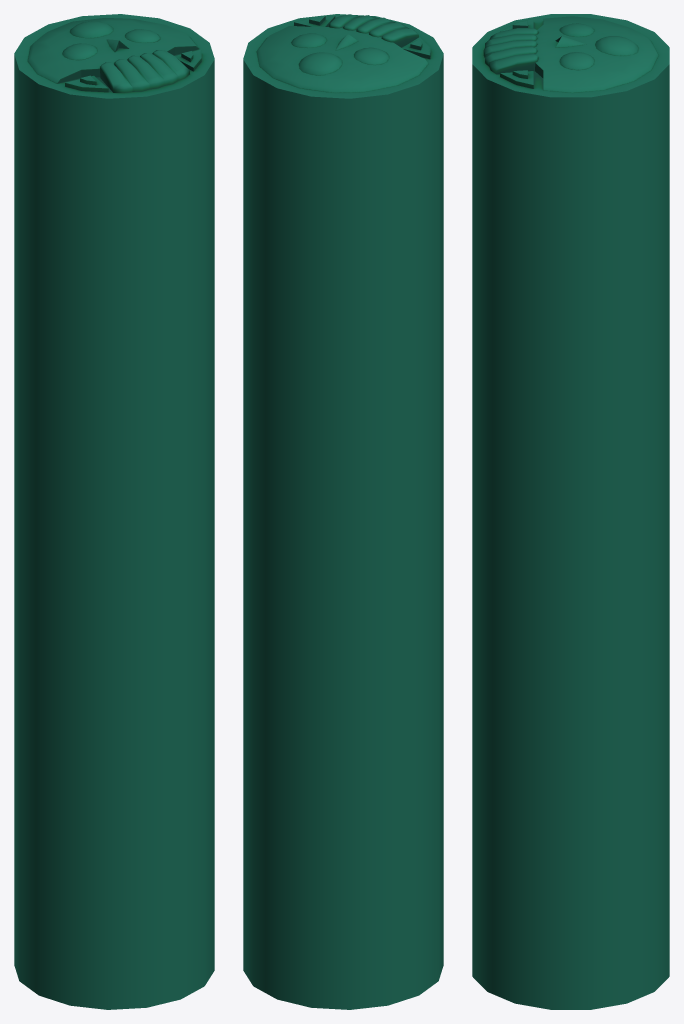
The model's file is elevator02.fbx.
3 renders of one model, left to right at view 1: azimuth 30°, elevation 25°; view 2: azimuth 150°, elevation 25°; view 3: azimuth 270°, elevation 25°, orthographic.
Visible parts, largest first — view 1: elevator02_geo; view 2: elevator02_geo; view 3: elevator02_geo.
Boxes of the visible parts, <box> form: elevator02_geo: <box>14,14,214,1009</box>; elevator02_geo: <box>243,14,443,1009</box>; elevator02_geo: <box>472,14,669,1009</box>.
Bounding box in the file's own units: 196 × 1021 × 196.
Materials: 1 (1 with a texture image).
